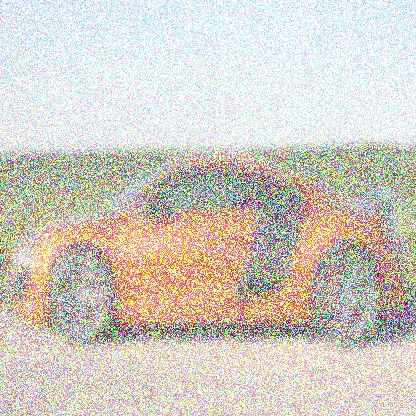Vehicle: (10, 154, 407, 348)
